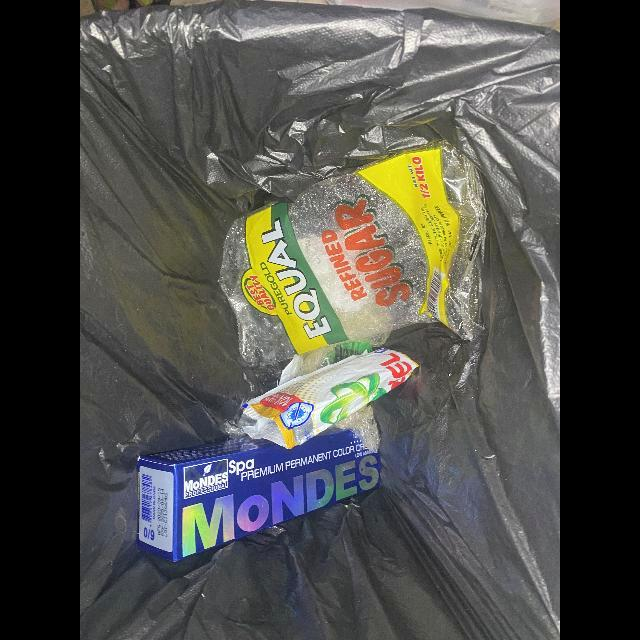cardboard: (136, 427, 382, 562)
food_wrapper: (218, 147, 484, 366)
plastic_sachet: (240, 349, 420, 450)
